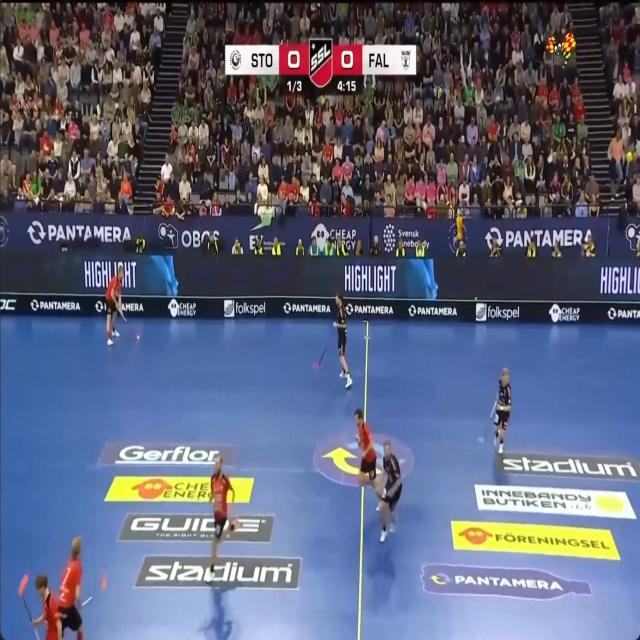Balls: (136, 333, 140, 339)
player: (210, 456, 239, 578), (58, 537, 83, 639), (354, 409, 381, 498), (380, 439, 402, 542), (33, 575, 61, 639), (333, 294, 352, 387), (494, 368, 511, 453), (106, 266, 124, 345)
stick: (19, 575, 39, 639), (318, 347, 327, 365), (118, 306, 127, 322), (490, 398, 497, 417), (81, 596, 92, 607)
